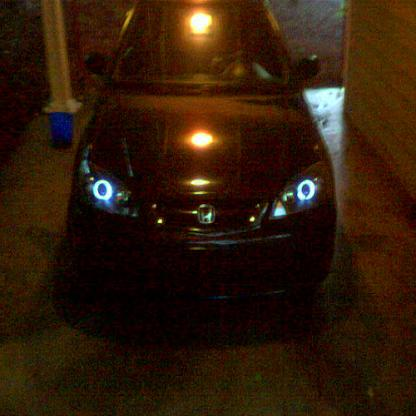car: (65, 0, 338, 300)
